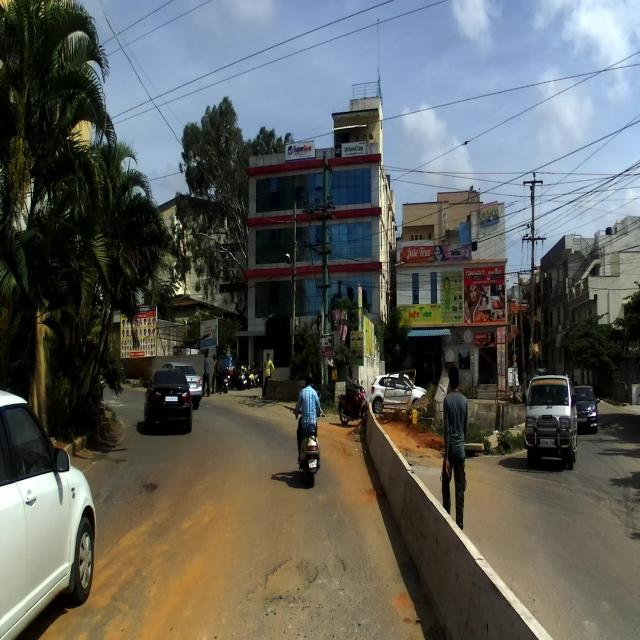car: (0, 386, 96, 639), (524, 374, 581, 469), (141, 364, 194, 436)
scooter: (295, 408, 322, 488)
